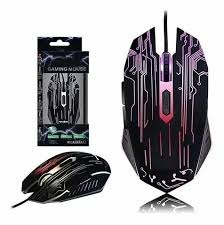mouse: (119, 30, 216, 198), (13, 146, 114, 215)
